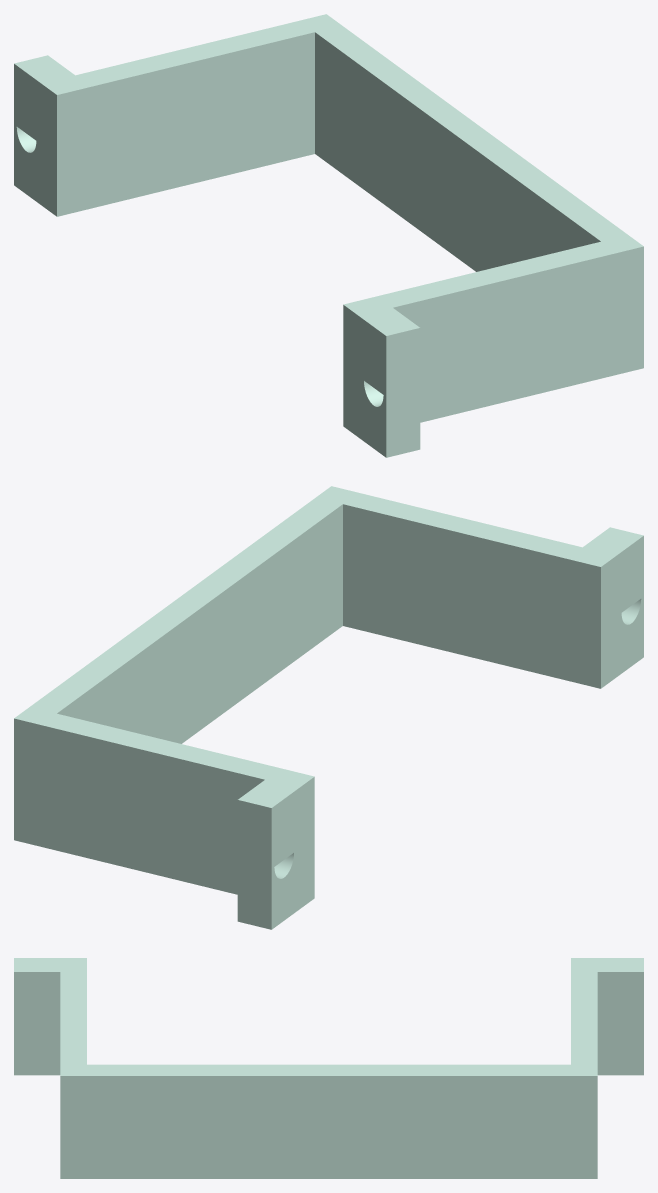
3 renders of one model, top to bottom at view 1: azimuth 30°, elevation 25°; view 2: azimuth 150°, elevation 25°; view 3: azimuth 270°, elevation 25°, orthographic. The views are drawn at different scales.
Visible parts, largest first — view 1: Renderer Node; view 2: Renderer Node; view 3: Renderer Node.
Boxes of the visible parts, x1=… form: Renderer Node: x1=14, y1=14, x2=643, y2=457; Renderer Node: x1=14, y1=486, x2=643, y2=929; Renderer Node: x1=14, y1=958, x2=643, y2=1178.
Bounding box in the file's own units: 0.4594 × 0.1875 × 1.04.
